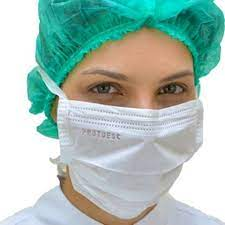with_mask_and_cap: (37, 1, 204, 215)
